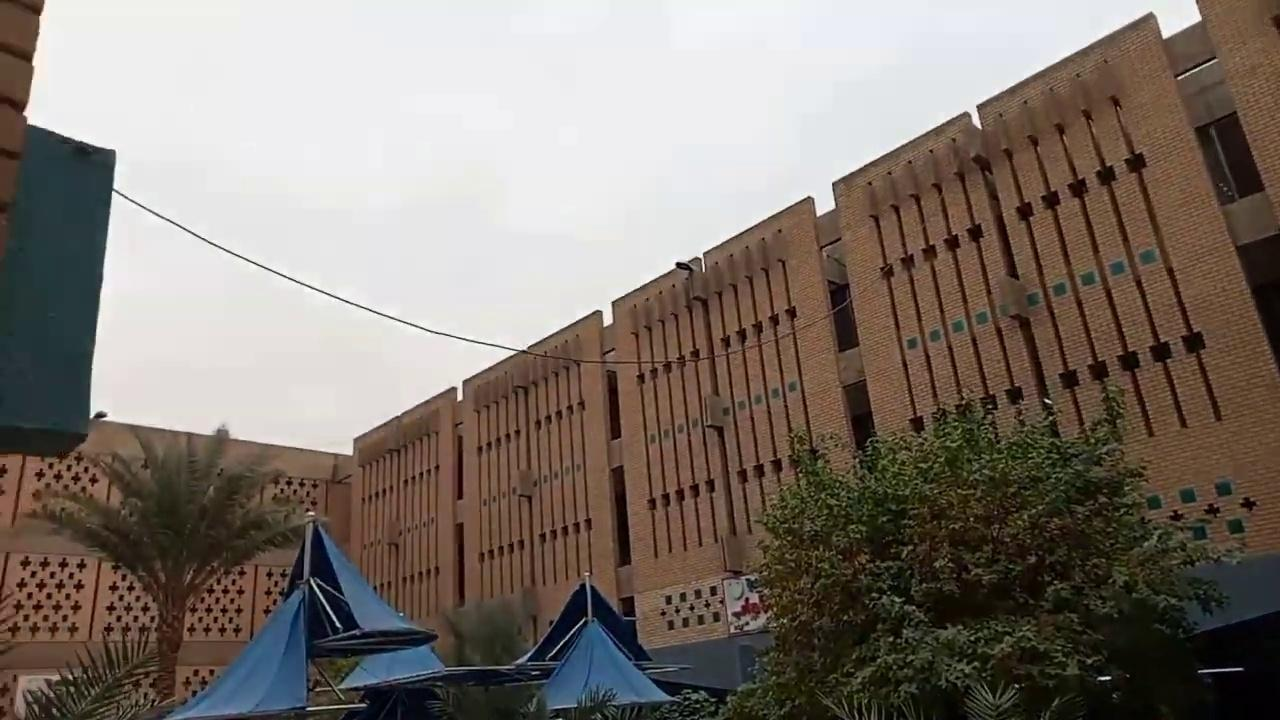tree: (719, 380, 1246, 718), (24, 421, 314, 711), (20, 624, 177, 718)
